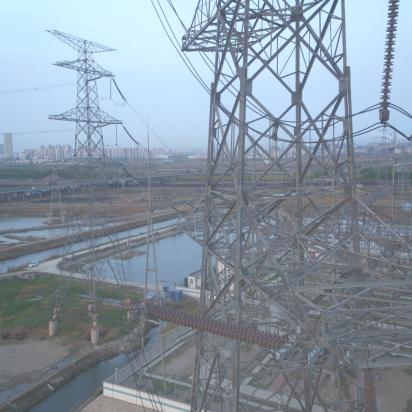insulator: (145, 304, 299, 351)
